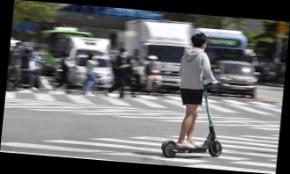nonhelmet: (158, 29, 235, 162)
